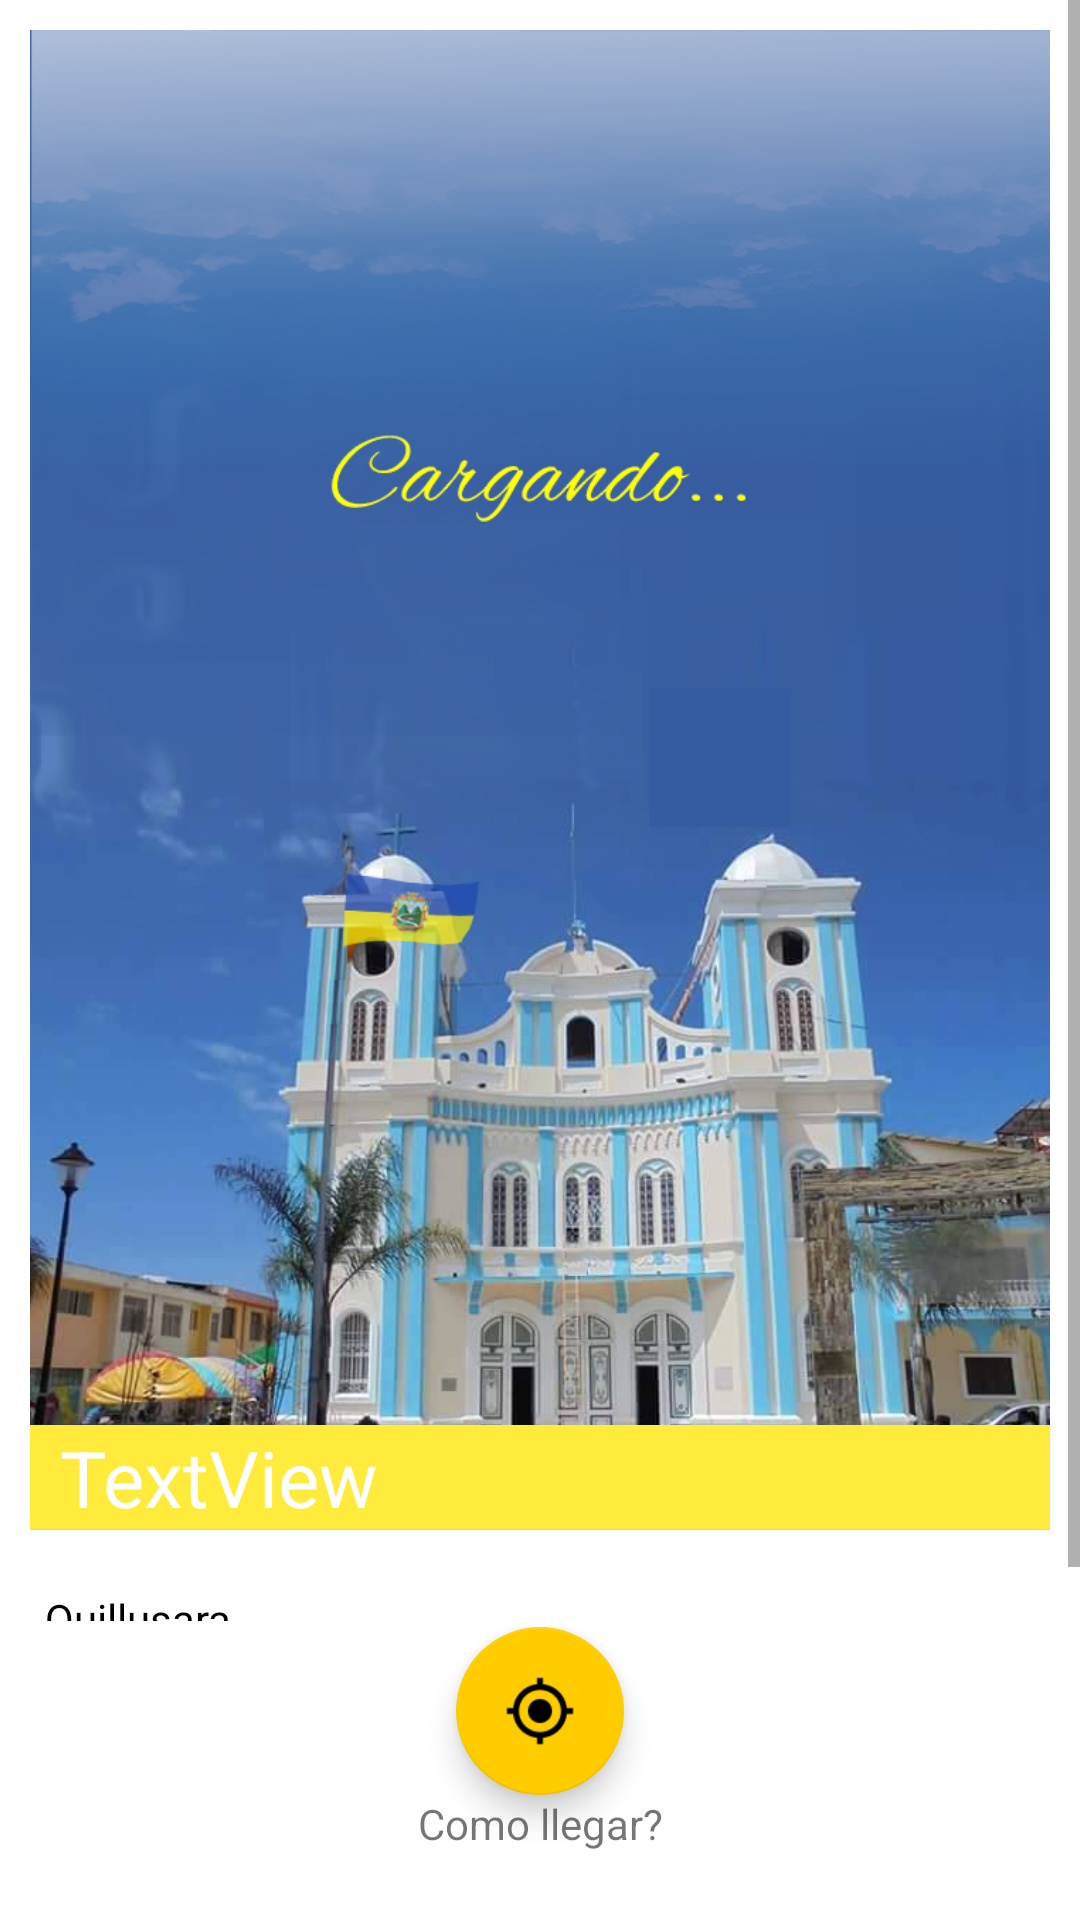

Point at icon controls on the screen. Image size 1080w x 1920h, points as point (x, y).
location: point (540, 1711)
